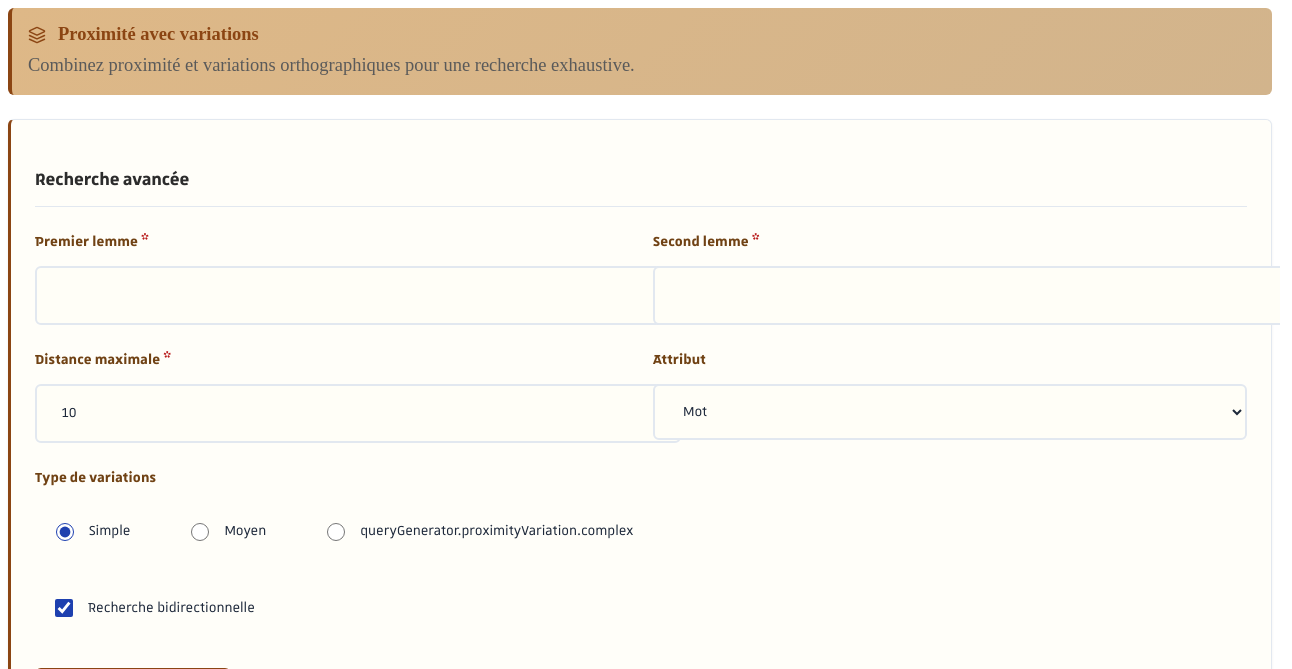
Test: ProximityVariationView - Interactions formulaire › devrait permettre de changer le type de variation
Click the radio button labelled "Moyen" at {"x": 200, "y": 532}, box [191, 523, 209, 541]
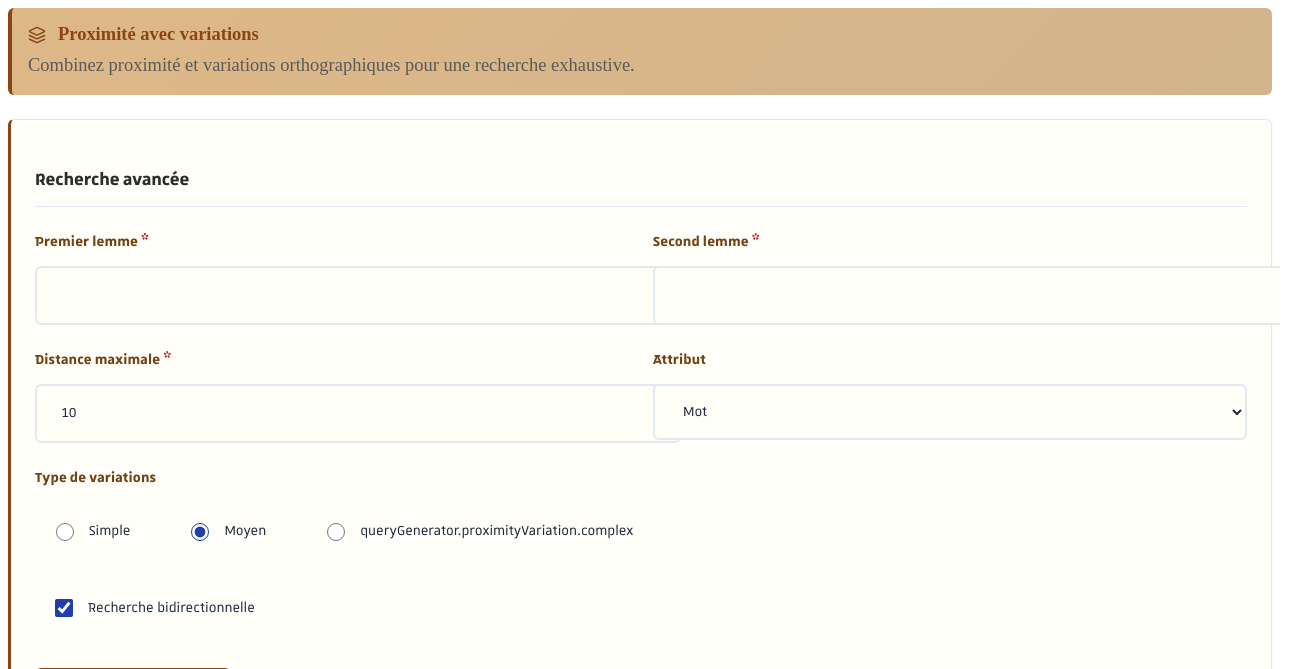
Expected: the radio button labelled "Moyen" is checked, [191, 523, 209, 541]
Expected: the radio button labelled "Simple" is not checked, [56, 523, 74, 541]
